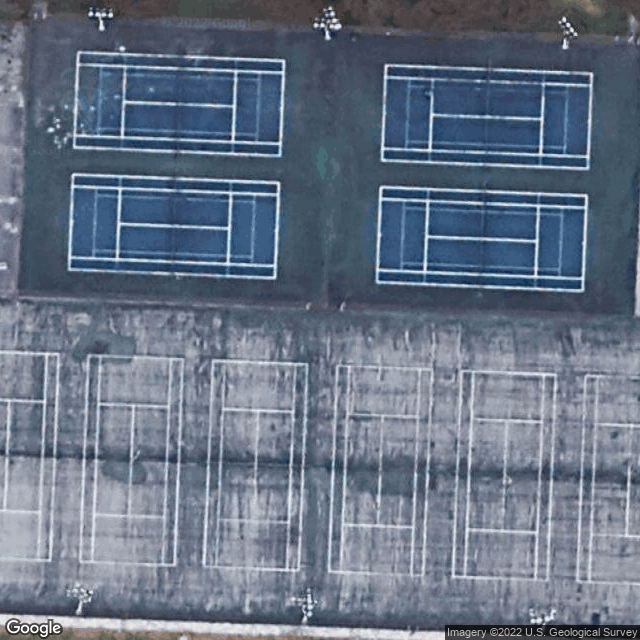Court: (71, 49, 286, 161), (374, 184, 589, 295), (381, 60, 593, 171), (66, 171, 280, 280), (326, 364, 434, 578), (450, 368, 558, 582), (78, 352, 184, 567), (208, 357, 309, 573), (575, 372, 640, 587), (0, 349, 61, 563)
